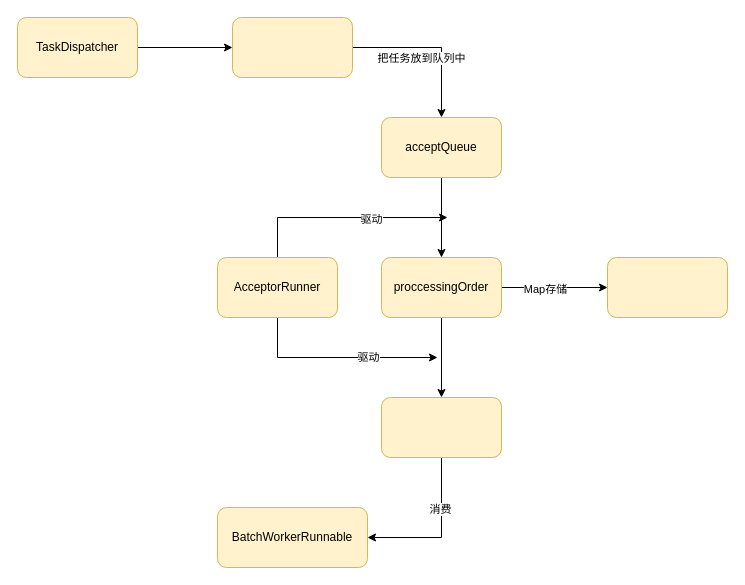
The diagram is 745 pixels wide and 585 high, and some of its shapes have lost their labels. The centre of each missing label's shape, as x and y in pixels:
"AcceptorExecutor" belongs at [292,47].
"batchingWorkQueue" belongs at [441,427].
"pendingTasks" belongs at [667,287].
